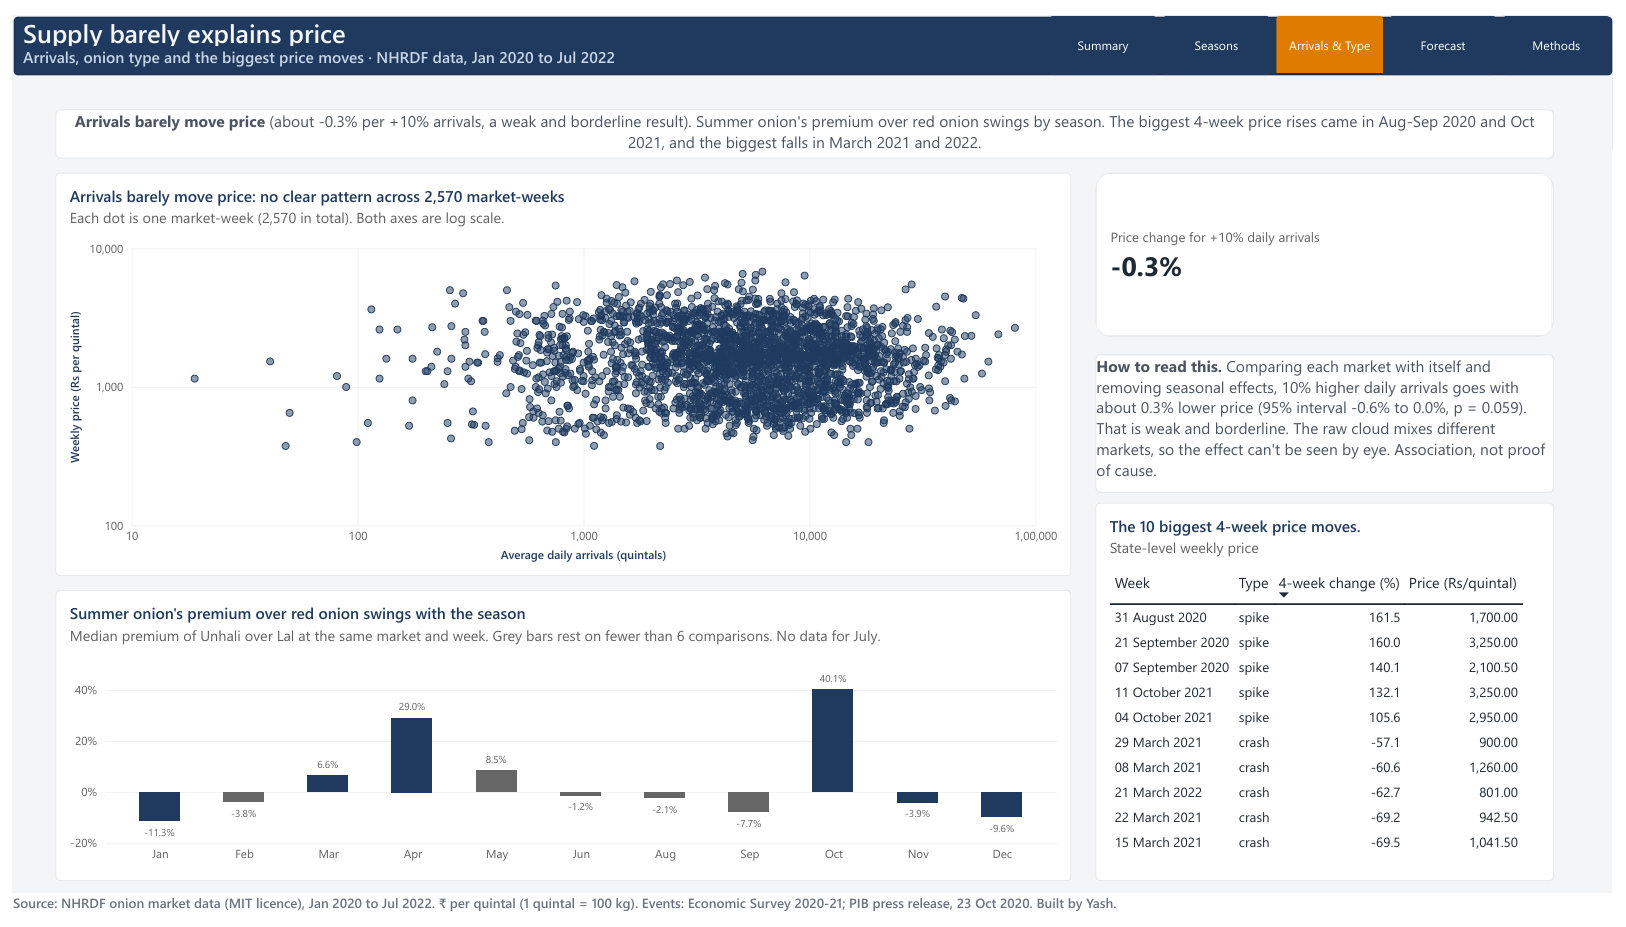

This screenshot's page, from the dashboard's own definition file:
{"tool":"powerbi","page":{"name":"Arrivals & Type","canvas":[1920,1080],"ordinal":2},"visuals":[{"type":"scatterChart","title":"Arrivals barely move price: no clear pattern across 2,570 market-weeks","fields":{"X":["arrivals_market_weekly.arrivals_per_day"],"Y":["arrivals_market_weekly.price"]},"box":[50.6,188.4,1219.2,483.1],"z":0},{"type":"cardVisual","fields":{"Data":["Measures (2).Price effect of +10% arrivals"]},"box":[1299.4,188.4,549.4,197.1],"z":1000},{"type":"columnChart","title":"Summer onion''s premium over red onion swings with the season","fields":{"Category":["dim_date.month"],"Y":["Measures (2).Median Unhali premium %"]},"box":[50.6,689,1219.2,348.8],"z":2000},{"type":"tableEx","title":"The 10 biggest 4-week price moves.","fields":{"Values":["arrivals_spikes.week","arrivals_spikes.kind","arrivals_spikes.change_4w_pct","arrivals_spikes.price"]},"box":[1299.4,584.3,549.4,453.5],"z":3000},{"type":"shape","box":[0,0,1920.4,71.5],"z":4000},{"type":"textbox","title":"Source: NHRDF onion market data (MIT licence), Jan 2020 to Jul 2022. ₹ per quintal (1 quintal = 100 kg). Events: Economic Survey 2020-21; PIB press release, 23 Oct 2020. Built by Yash.","box":[0,1053.5,1920.4,26.2],"z":5000},{"type":"textbox","title":"Supply barely explains price","box":[0,0,1203.2,36],"z":6000},{"type":"textbox","title":"Arrivals, onion type and the biggest price moves · NHRDF data, Jan 2020 to Jul 2022","box":[0,36.6,1034.3,34.9],"z":7000},{"type":"pageNavigator","box":[1243.6,0,676.4,71.3],"z":8000},{"type":"textbox","box":[50.6,111.6,1798.3,59.3],"z":9000},{"type":"textbox","box":[1299.4,406.4,549.4,165.7],"z":10000}]}

Visuals, with their boxes in screenshot pixels (x1, y1, x2, y2), scaled from the page's 1920x1080 canvas onto the 1626x927 screenshot:
"Arrivals barely move price: no clear pattern across 2,570 market-weeks" scatterChart: <bbox>43, 162, 1075, 576</bbox>
cardVisual - Measures (2).Price effect of +10% arrivals: <bbox>1100, 162, 1566, 331</bbox>
"Summer onion''s premium over red onion swings with the season" columnChart: <bbox>43, 591, 1075, 891</bbox>
"The 10 biggest 4-week price moves." tableEx: <bbox>1100, 502, 1566, 891</bbox>
shape: <bbox>0, 0, 1625, 61</bbox>
"Source: NHRDF onion market data (MIT licence), Jan 2020 to Jul 2022. ₹ per quintal (1 quintal = 100 kg). Events: Economic Survey 2020-21; PIB press release, 23 Oct 2020. Built by Yash." textbox: <bbox>0, 904, 1625, 926</bbox>
"Supply barely explains price" textbox: <bbox>0, 0, 1019, 31</bbox>
"Arrivals, onion type and the biggest price moves · NHRDF data, Jan 2020 to Jul 2022" textbox: <bbox>0, 31, 876, 61</bbox>
pageNavigator: <bbox>1053, 0, 1625, 61</bbox>
textbox: <bbox>43, 96, 1566, 147</bbox>
textbox: <bbox>1100, 349, 1566, 491</bbox>
